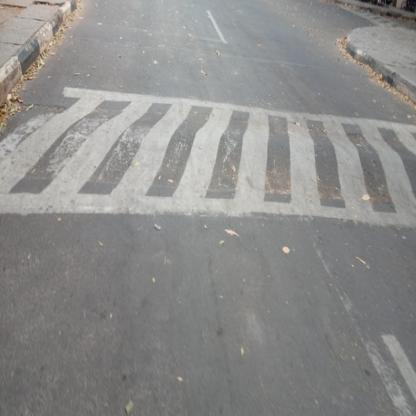speed-bumps: (0, 73, 415, 237)
